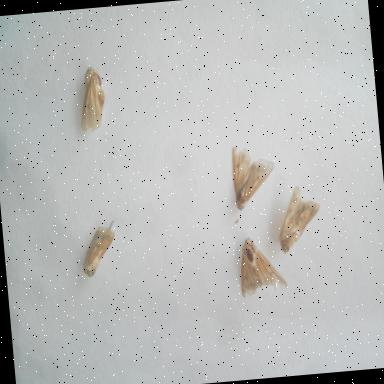abw: (272, 180, 328, 258), (226, 140, 282, 216), (235, 232, 292, 302), (76, 214, 124, 282), (74, 62, 112, 144)
